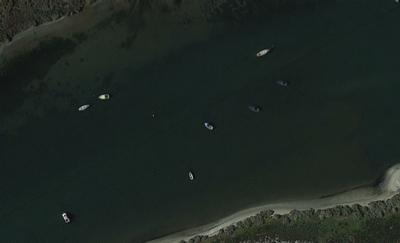Ships: (73, 99, 96, 122), (201, 114, 218, 138), (183, 163, 198, 185), (254, 47, 272, 63), (249, 99, 265, 116)
